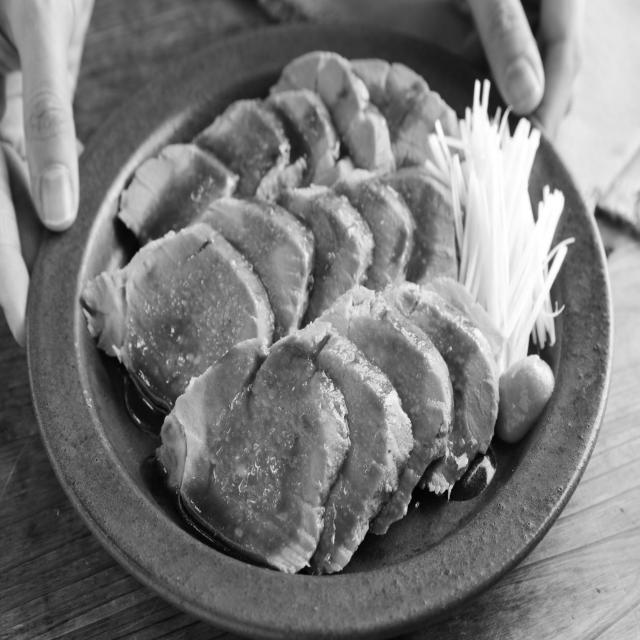OK cooked pork,: (157, 338, 361, 586), (299, 280, 457, 550), (78, 215, 276, 424), (275, 321, 421, 586), (193, 191, 318, 347)
